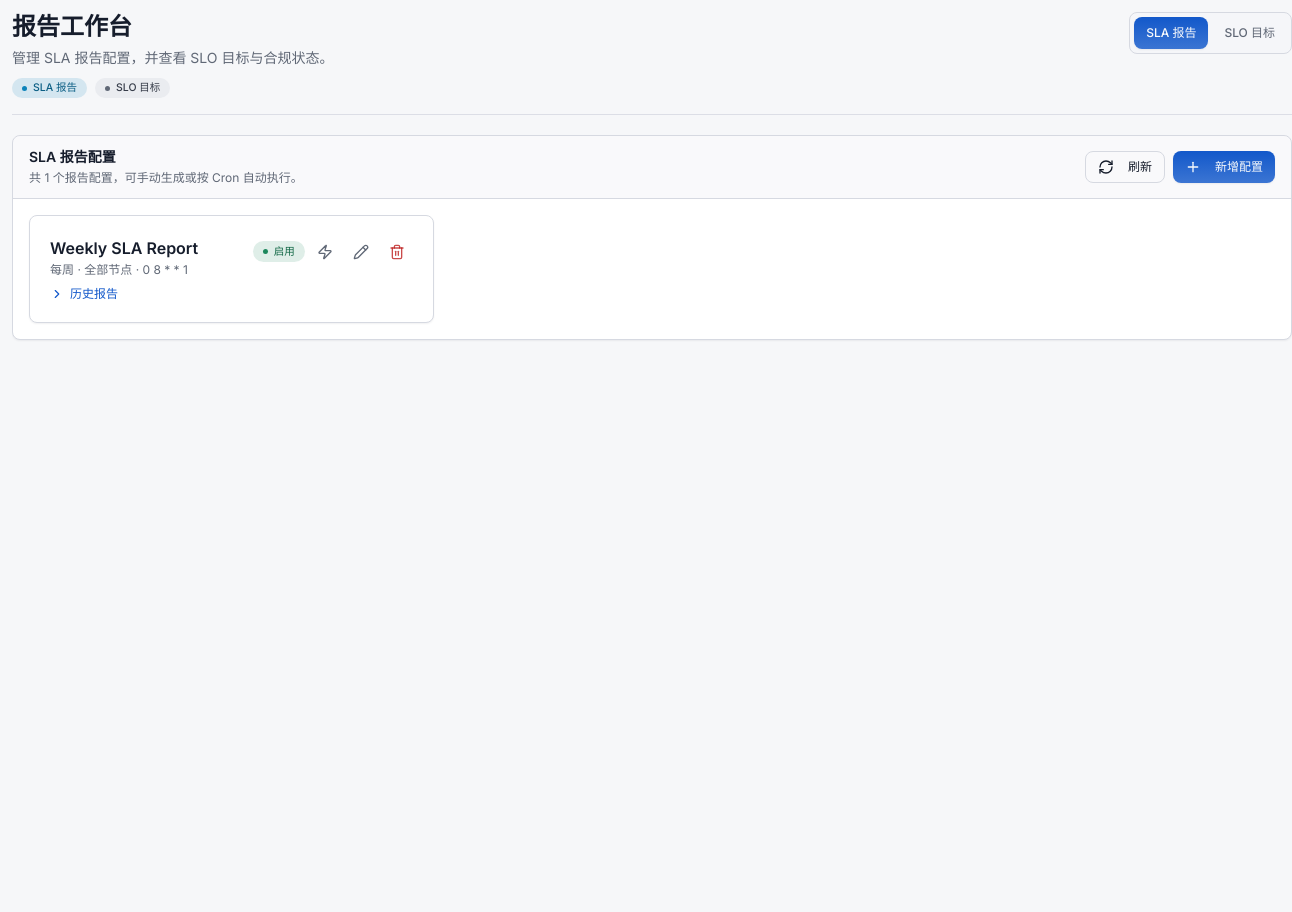
Test: ReportsPage › recovery objectives in expanded report row › renders 0/true (Compliant) and 120/false (Non-compliant) with semantic status badges
Expected: the text "Weekly SLA Report" is shown, [50, 236, 198, 260]
Click the button "历史报告" at (84, 294), box [50, 286, 118, 302]
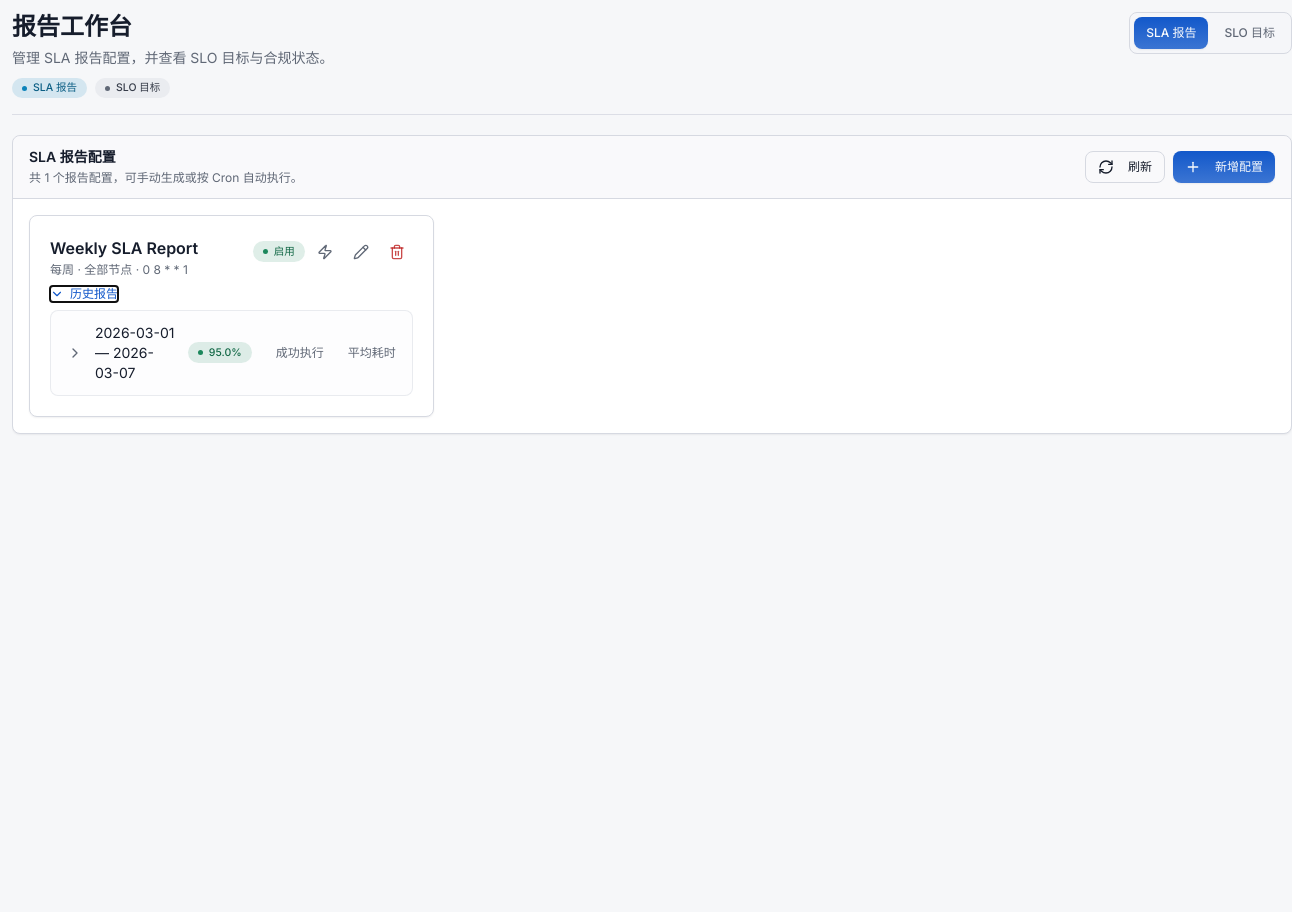
Click the button "2026-03-01 — 2026-03-07 95.0% 成功执行 平均耗时" at (231, 352), box [51, 310, 412, 394]
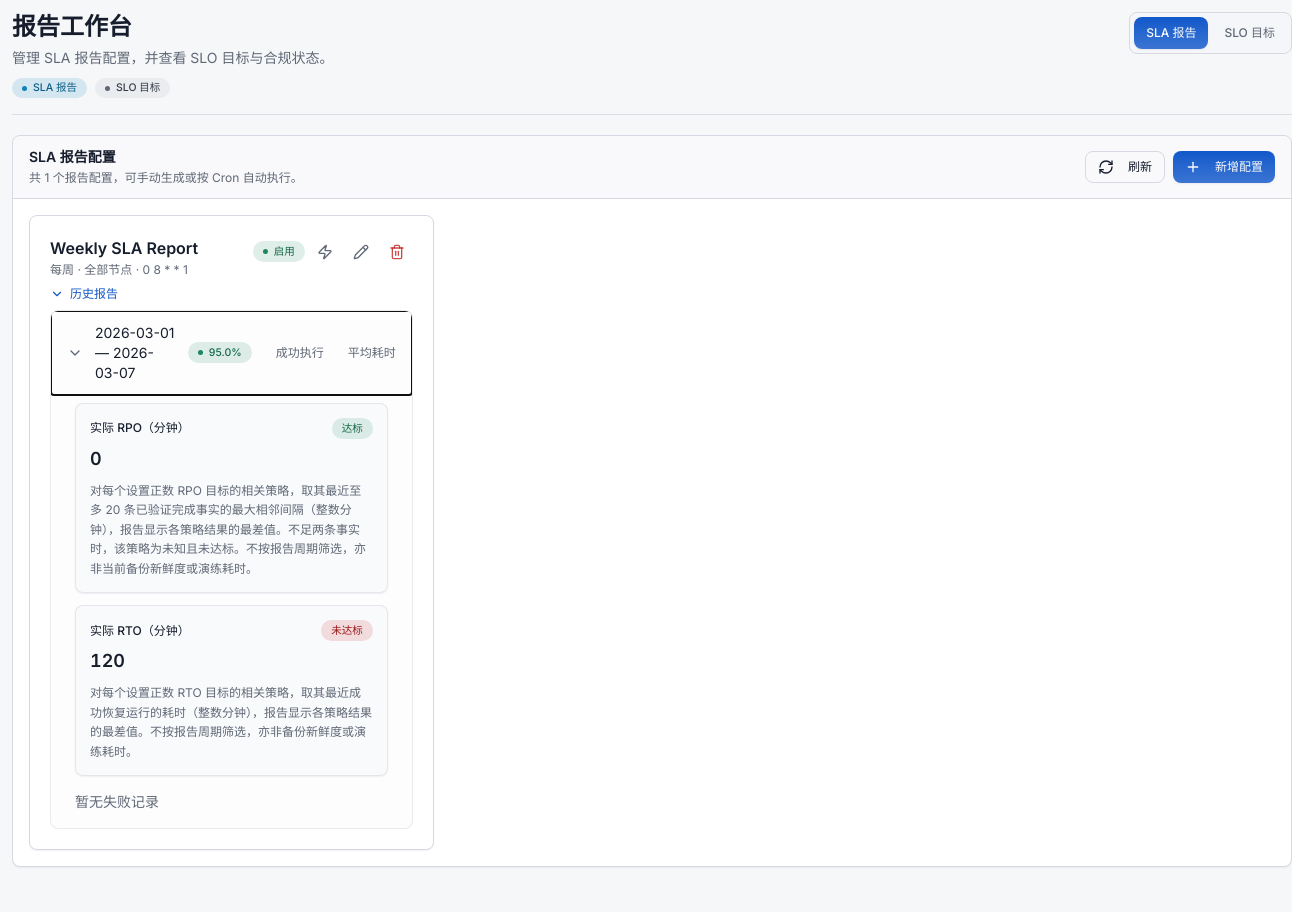
Expected: the text "实际 RPO（分钟）" is shown, [90, 420, 190, 436]
Expected: the text "0" is shown, [90, 448, 102, 468]
Expected: the text "达标" is shown, [332, 418, 373, 438]
